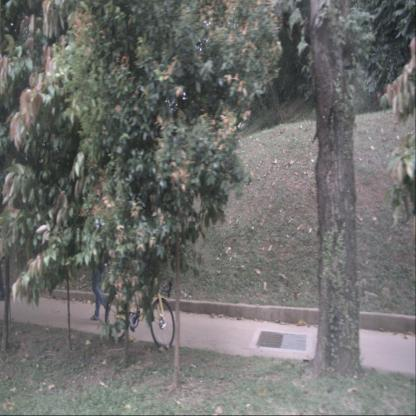human-pedestrian-adult: (90, 188, 110, 320)
vehicle-bicycle: (105, 250, 175, 350)
